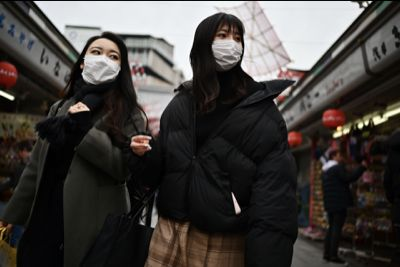with-mask: (207, 15, 245, 72), (79, 38, 122, 88)
